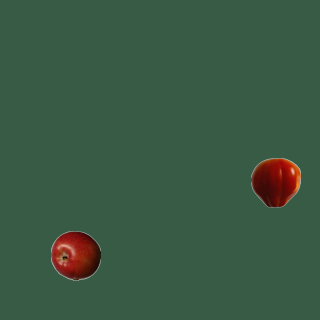Apple Braeburn: (50, 230, 100, 280)
Tomato 1: (250, 157, 300, 207)
